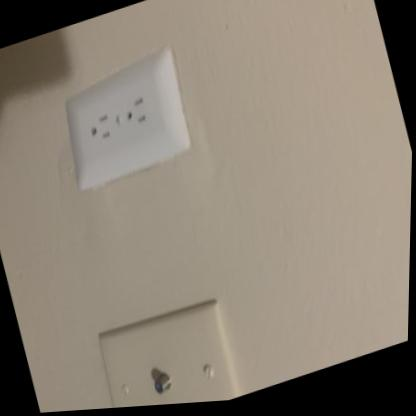OUTLET: (50, 43, 200, 194)
